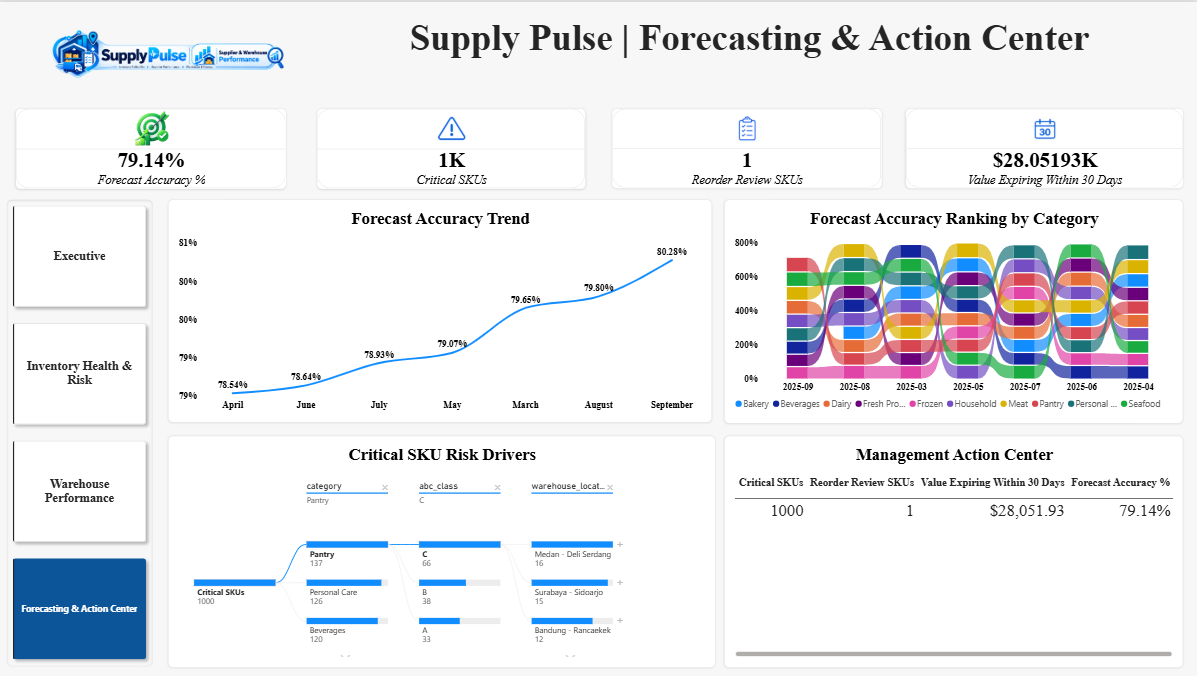

What the dashboard file says about the page in this screenshot:
{"tool":"powerbi","page":{"name":"Forecasting & Action Center","canvas":[1920,1080],"ordinal":3},"visuals":[{"type":"cardVisual","fields":{"Data":["Fact_Inventory.Forecast Accuracy %"]},"box":[27.7,169.2,433.8,129.2],"z":0},{"type":"cardVisual","fields":{"Data":["Fact_Inventory.Critical SKUs"]},"box":[510.8,169.2,430.8,129.2],"z":1000},{"type":"cardVisual","fields":{"Data":["Fact_Inventory.Reorder Review SKUs"]},"box":[982.6,170.1,432.5,128.5],"z":2000},{"type":"cardVisual","fields":{"Data":["Fact_Inventory.Value Expiring Within 30 Days"]},"box":[1451.3,170.1,445.2,128.5],"z":3000},{"type":"image","box":[14,24,516,126],"z":4000},{"type":"textbox","box":[510.8,24.6,1384.6,126.2],"z":5000},{"type":"lineChart","title":"Forecast Accuracy Trend","fields":{"Category":["Dim_Date.Month"],"Y":["Fact_Inventory.Forecast Accuracy %"]},"box":[271.4,316.7,870.4,356.5],"z":6000},{"type":"decompositionTreeVisual","title":"Critical SKU Risk Drivers","fields":{"Analyze":["Fact_Inventory.Critical SKUs"],"ExplainBy":["Dim_Product.category","Dim_Product.abc_class","Dim_Warehouse.warehouse_location","Dim_Supplier.supplier_name"]},"box":[271.4,693.1,875.9,371],"z":7000},{"type":"ribbonChart","title":"Forecast Accuracy Ranking by Category","fields":{"Category":["Dim_Date.Year_Month"],"Series":["Dim_Product.category"],"Y":["Fact_Inventory.Forecast Accuracy %"]},"box":[1161.8,316.7,734.7,358.3],"z":8000},{"type":"tableEx","title":"Management Action Center","fields":{"Values":["Fact_Inventory.Critical SKUs","Fact_Inventory.Reorder Review SKUs","Fact_Inventory.Value Expiring Within 30 Days","Fact_Inventory.Forecast Accuracy %"]},"box":[1161.8,693.1,734.7,371],"z":9000},{"type":"pageNavigator","box":[14.5,316.7,233.4,747.4],"z":10000}]}

Visuals, with their boxes in screenshot pixels (x1, y1, x2, y2), scaled from the page's 1920x1080 canvas onto the 1197x676 screenshot:
cardVisual - Fact_Inventory.Forecast Accuracy %: 17/106/288/187
cardVisual - Fact_Inventory.Critical SKUs: 318/106/587/187
cardVisual - Fact_Inventory.Reorder Review SKUs: 613/106/882/187
cardVisual - Fact_Inventory.Value Expiring Within 30 Days: 905/106/1182/187
image: 9/15/330/94
textbox: 318/15/1182/94
"Forecast Accuracy Trend" lineChart: 169/198/712/421
"Critical SKU Risk Drivers" decompositionTreeVisual: 169/434/715/666
"Forecast Accuracy Ranking by Category" ribbonChart: 724/198/1182/422
"Management Action Center" tableEx: 724/434/1182/666
pageNavigator: 9/198/155/666
